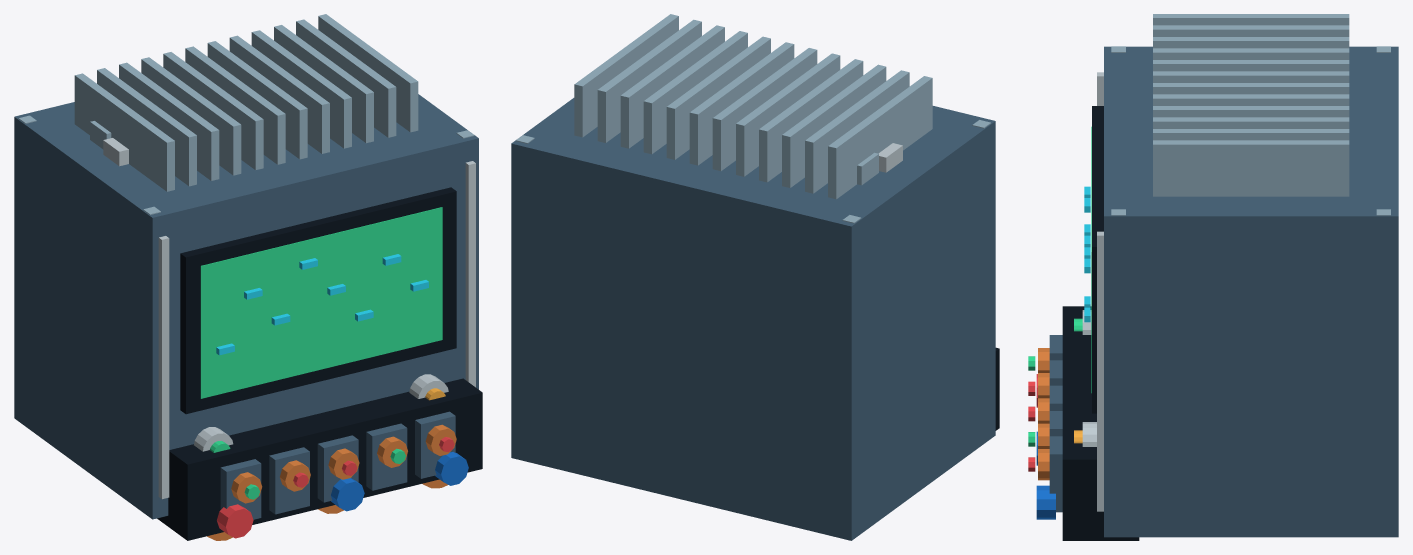
The model's file is 53_L73_Regulated5VControlSupply.fbx.
3 views of the same model, side by side, from view 1: azimuth 30°, elevation 25°; view 2: azimuth 150°, elevation 25°; view 3: azimuth 270°, elevation 25° (orthographic). The views are drawn at different scales.
Visible parts, largest first — view 1: Regulated5VControlSupply; view 2: Regulated5VControlSupply; view 3: Regulated5VControlSupply.
Part boxes in pixels (x1,y1,x2,y2): Regulated5VControlSupply: (14,14,482,540); Regulated5VControlSupply: (511,14,999,540); Regulated5VControlSupply: (1028,14,1398,540).
Bounding box in the file's own units: 94 × 102 × 86.69.
